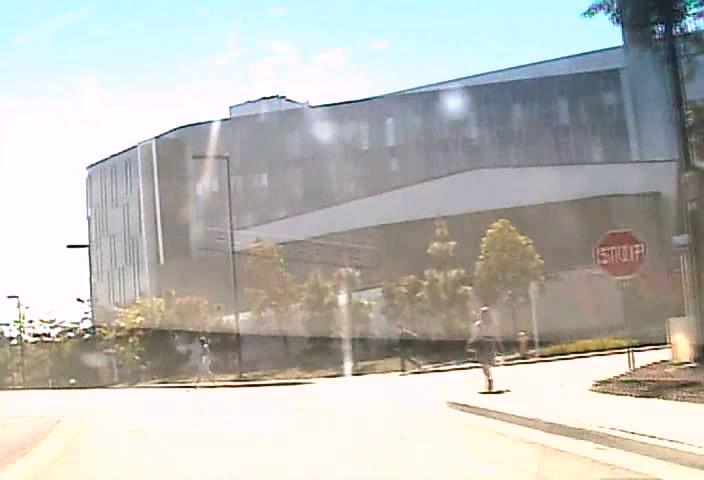stop: (593, 228, 645, 278)
